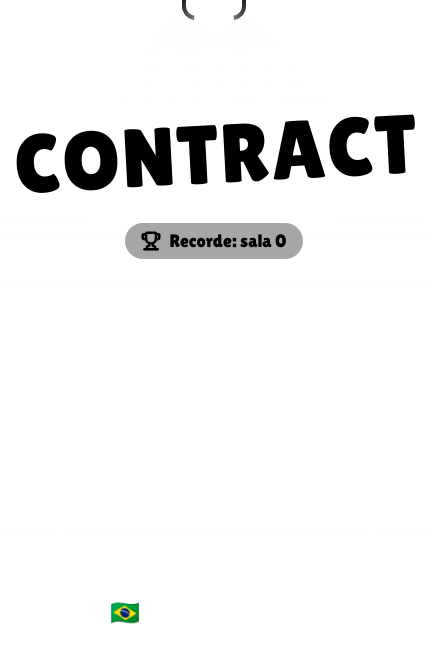
Test: HomePage › troca o idioma e atualiza os textos da tela
Click the button with aria-label "Trocar para inglês" at (214, 613), box 54,587 -> 374,639
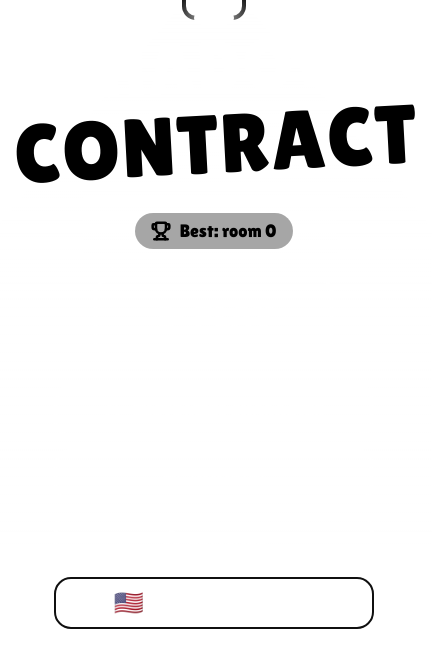
Check: the text "Best: room 0" is shown, box 135,213 -> 293,249
Check: the button with aria-label "Switch to Portuguese" reads "🇺🇸 Language: English"
Click the button with aria-label "Switch to Portuguese" at (214, 603), box 54,577 -> 374,629
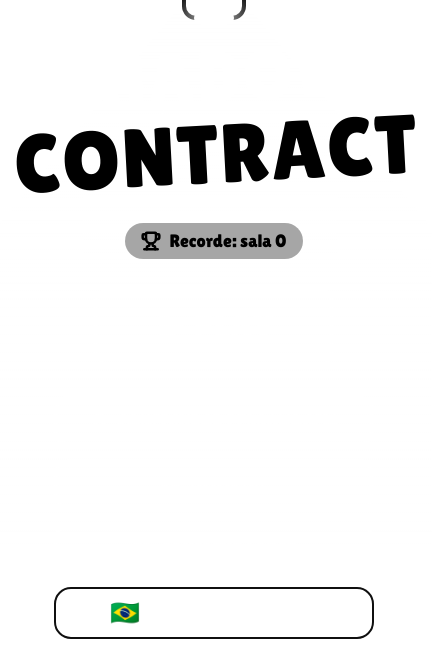
Check: the text "Recorde: sala 0" is shown, box 125,223 -> 303,259
